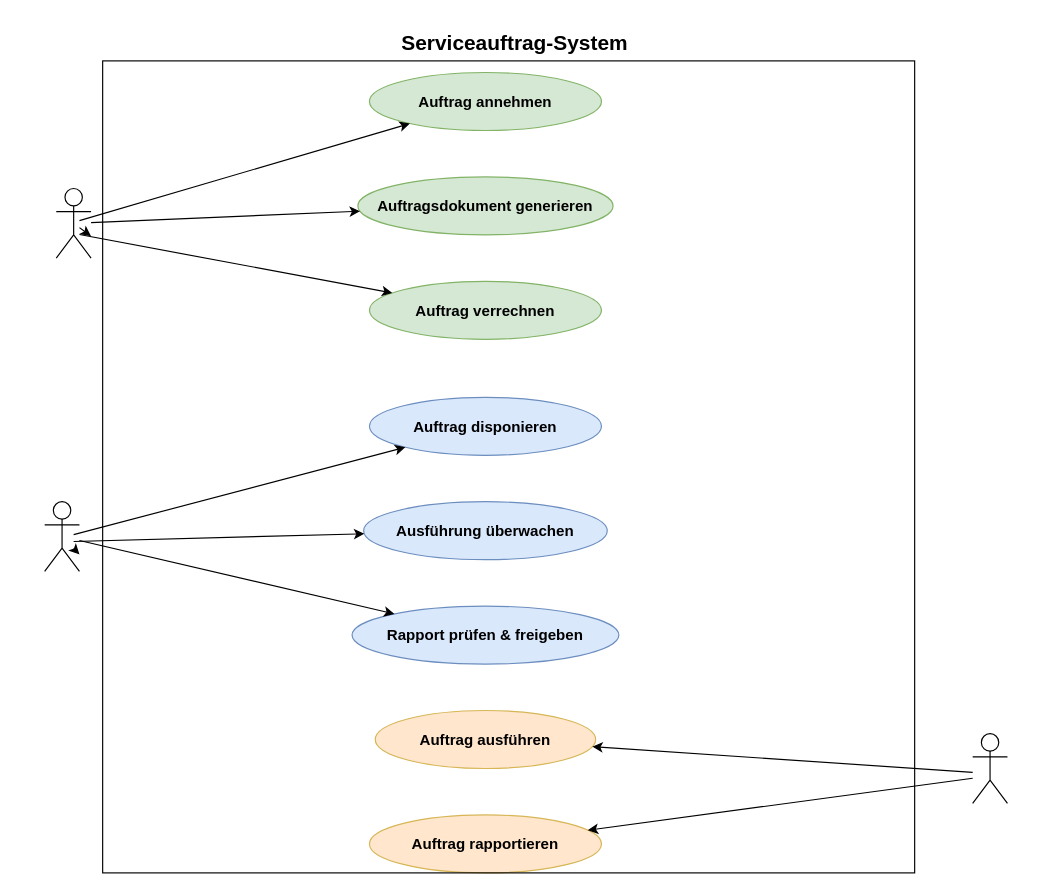
The diagram is 1043 pixels wide and 893 high, and some of its shapes have lost their labels. The centre of each missing label's shape, as x and y in pixels:
"Bereichsleiter" belongs at point 61,536.
"GL/Admin" belongs at point 73,222.
"Mitarbeiter" belongs at point 989,768.
